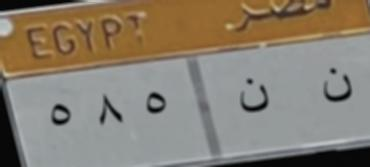5: (44, 92, 74, 133), (138, 86, 170, 121)
8: (90, 93, 126, 135)
noon: (318, 62, 356, 115), (232, 75, 274, 117)
